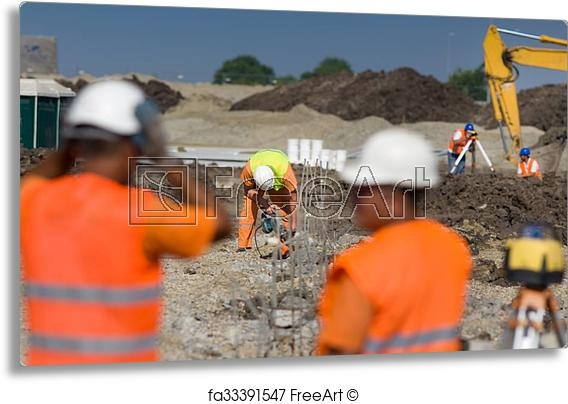blue: (519, 147, 530, 160), (463, 123, 474, 135)
white: (66, 81, 153, 179), (354, 128, 435, 222), (252, 163, 275, 191)
